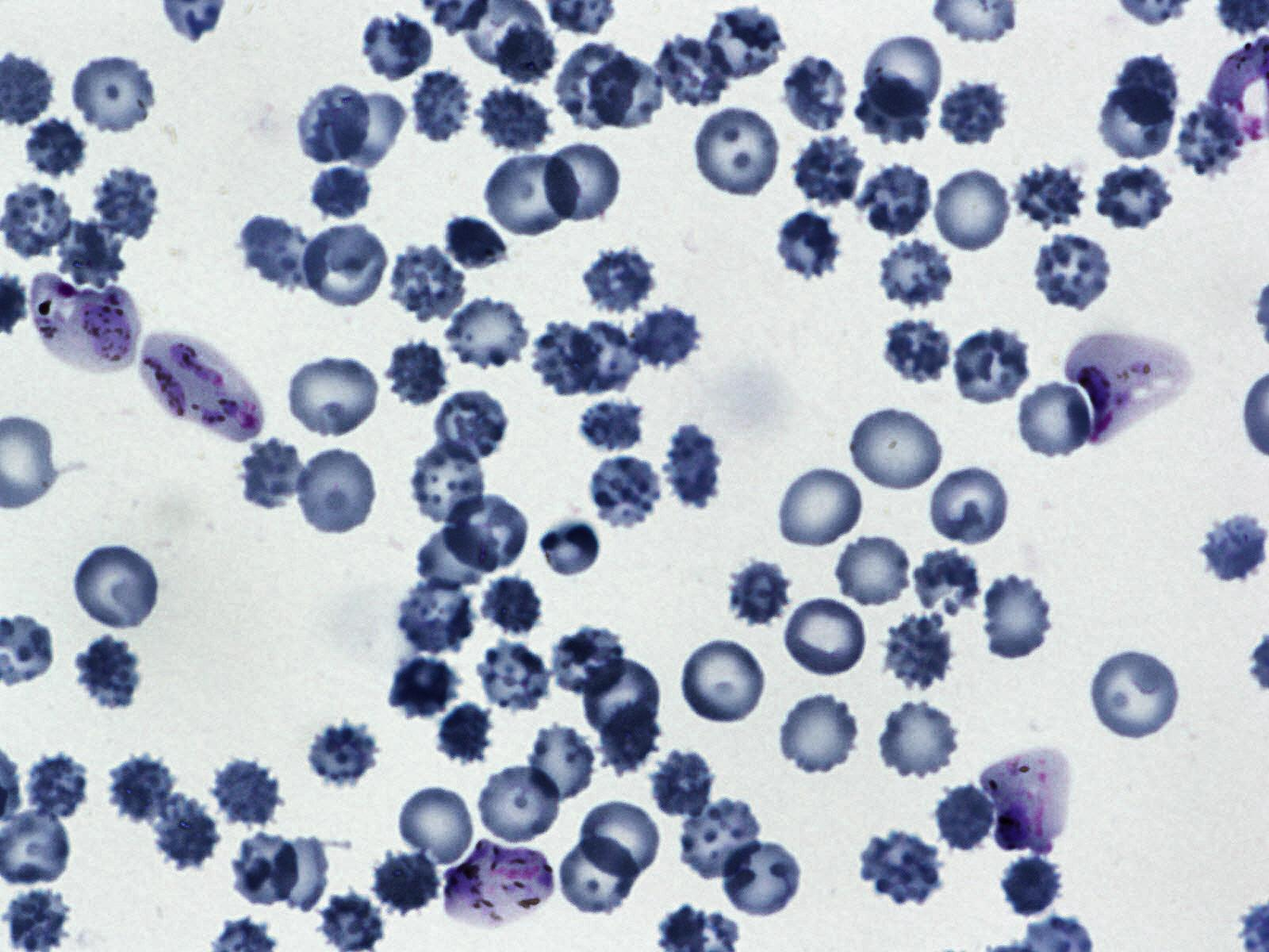Infected: (142, 329, 270, 444), (1066, 332, 1184, 447), (29, 270, 142, 374), (977, 748, 1069, 850), (447, 839, 553, 927)
Uninfected: (482, 148, 585, 240), (1088, 647, 1183, 743), (847, 403, 946, 494), (692, 104, 784, 198), (69, 540, 164, 631), (285, 351, 382, 439), (775, 463, 868, 551), (675, 639, 767, 727), (297, 214, 385, 305), (67, 51, 160, 136), (677, 794, 766, 882), (292, 448, 379, 536), (776, 691, 864, 777), (876, 697, 964, 782), (236, 215, 329, 293), (926, 463, 1012, 547), (576, 798, 662, 882), (439, 493, 528, 574), (410, 437, 491, 526), (932, 167, 1014, 254), (977, 572, 1055, 662), (1028, 232, 1116, 311), (949, 324, 1034, 405), (869, 232, 955, 312), (392, 785, 468, 875), (861, 831, 949, 908), (849, 161, 939, 236), (558, 836, 640, 917), (1091, 159, 1179, 234), (865, 35, 943, 119), (715, 840, 801, 916), (388, 240, 468, 321), (834, 532, 915, 611), (480, 764, 561, 843), (542, 140, 620, 222), (394, 577, 478, 653), (1010, 382, 1096, 456), (524, 721, 601, 802), (651, 34, 734, 109), (704, 6, 785, 81), (560, 43, 634, 125), (444, 297, 527, 370), (880, 612, 957, 690), (68, 634, 144, 711), (784, 599, 862, 674), (587, 456, 666, 530), (581, 663, 657, 739), (432, 384, 509, 459), (577, 244, 657, 316), (1098, 85, 1175, 159), (102, 751, 179, 825), (586, 56, 663, 130), (856, 74, 934, 147), (417, 521, 500, 589), (331, 92, 406, 167), (549, 625, 627, 697), (298, 85, 370, 163), (210, 758, 286, 831), (371, 843, 443, 920), (623, 301, 700, 373), (1, 181, 74, 256), (236, 437, 312, 509), (1173, 102, 1245, 178), (662, 425, 724, 512), (599, 694, 663, 777), (1010, 159, 1089, 226), (933, 77, 1010, 145), (773, 207, 846, 278), (723, 555, 794, 628), (477, 641, 549, 712), (1109, 54, 1180, 126), (151, 793, 220, 867), (232, 831, 300, 906), (534, 320, 600, 397), (92, 167, 162, 239), (795, 135, 867, 205), (54, 216, 124, 288), (647, 747, 716, 820), (911, 547, 980, 620), (21, 754, 90, 826), (880, 313, 952, 382), (932, 783, 1000, 856), (995, 852, 1068, 919), (1202, 512, 1269, 585), (381, 341, 450, 411), (575, 320, 642, 392), (271, 836, 331, 916), (480, 84, 550, 151), (784, 54, 846, 129), (391, 652, 459, 718), (362, 13, 429, 79), (309, 721, 377, 785), (493, 18, 559, 83), (408, 73, 470, 140), (309, 158, 373, 221), (6, 889, 69, 952), (21, 115, 84, 177), (478, 575, 542, 636), (319, 892, 382, 952), (435, 701, 493, 766), (579, 400, 646, 455), (444, 214, 511, 268), (541, 518, 600, 579)
